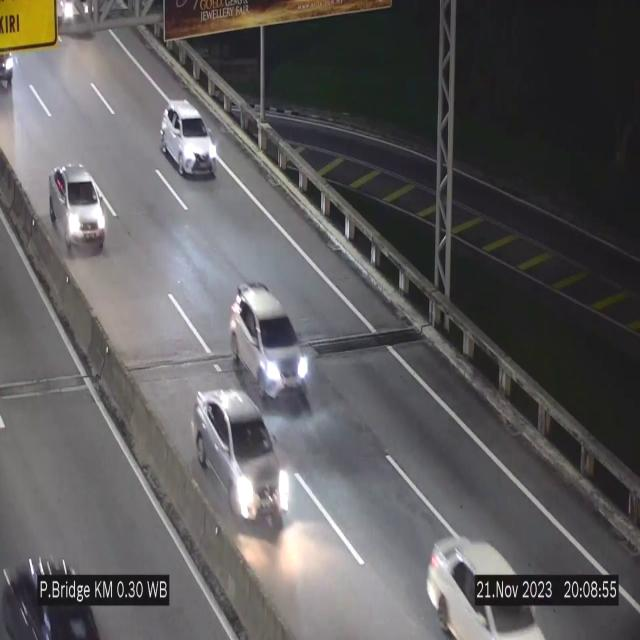Car: (424, 525, 552, 640), (195, 388, 289, 537), (0, 530, 116, 640), (230, 284, 312, 402), (50, 162, 105, 252), (160, 100, 218, 176)
